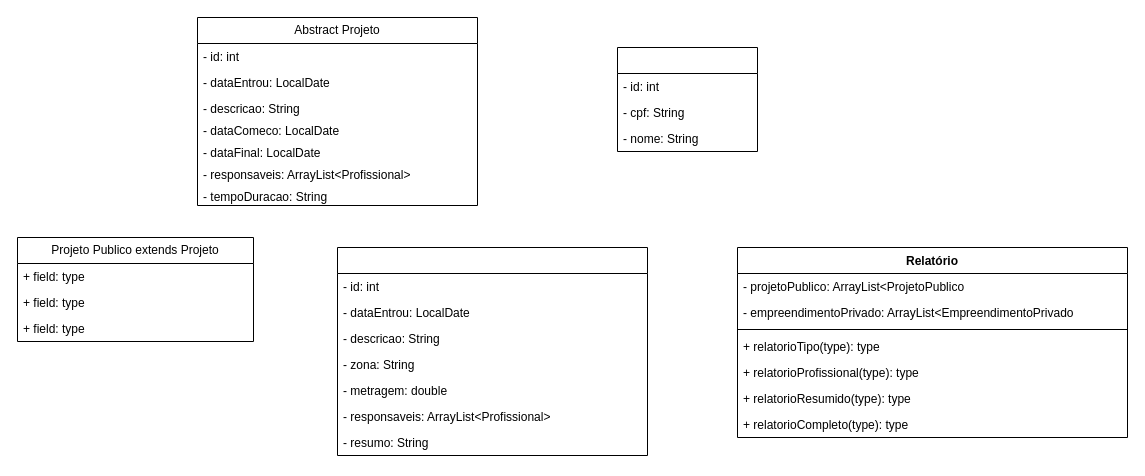
This 1145x476 diagram has some shape labels left out. The shapes that lost their labels are listed below. From the top down, each one's box as (x1, y1, x2, y2) in pixels, then its label:
(616, 46, 758, 152): Profissional
(336, 246, 648, 456): Empreendimento Privado extends Projeto
